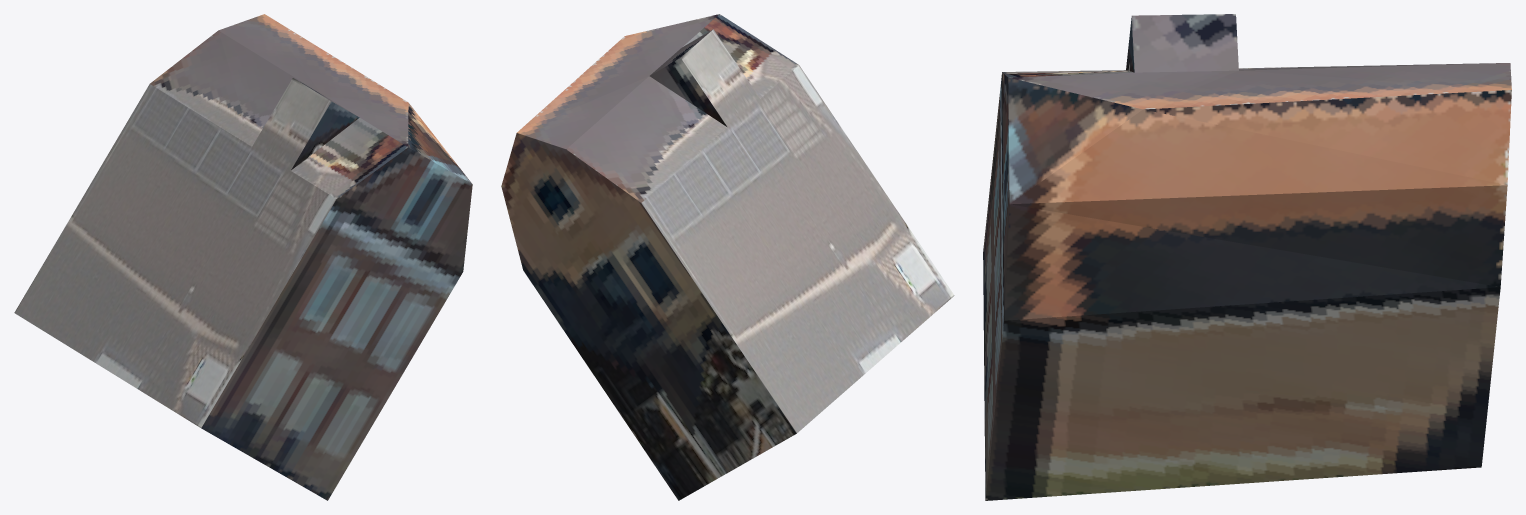
3 views of the same model, side by side, from view 1: azimuth 30°, elevation 25°; view 2: azimuth 150°, elevation 25°; view 3: azimuth 270°, elevation 25° (orthographic). The views are drawn at different scales.
Parts seen in each view (by area): view 1: BAG_0599100000140595 (×5); view 2: BAG_0599100000140595 (×5); view 3: BAG_0599100000140595 (×4).
Boxes of the visible parts, bbox=[...] form: BAG_0599100000140595 (×5): bbox=[14, 14, 472, 500]; BAG_0599100000140595 (×5): bbox=[501, 14, 954, 500]; BAG_0599100000140595 (×4): bbox=[983, 14, 1511, 500].
Size of the model in its own units: 9.88 by 11.08 by 10.14.
7 materials, 7 textured.
